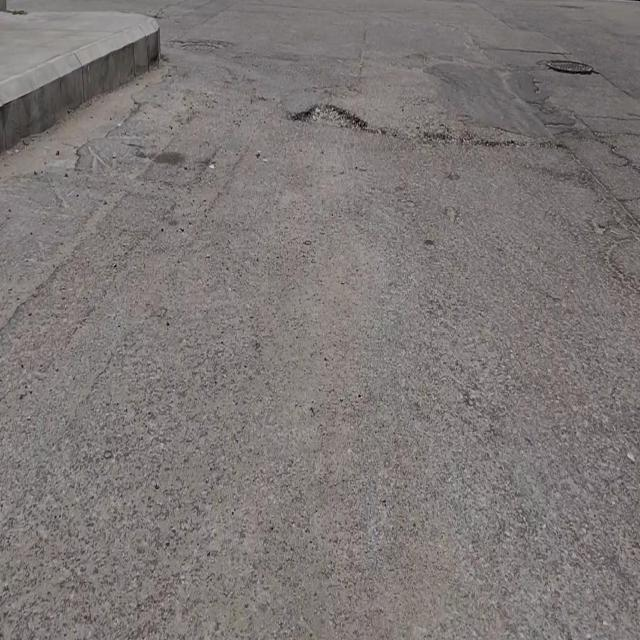Potholes: (289, 97, 367, 132)
